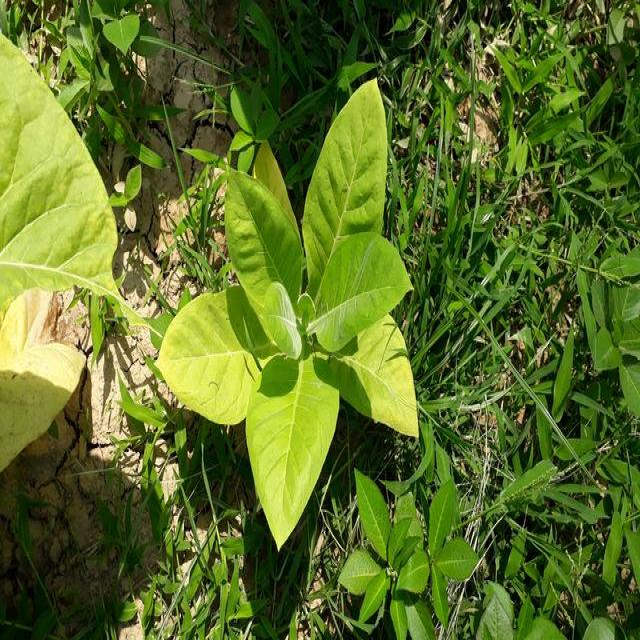crop: (157, 84, 420, 554), (0, 36, 142, 508)
